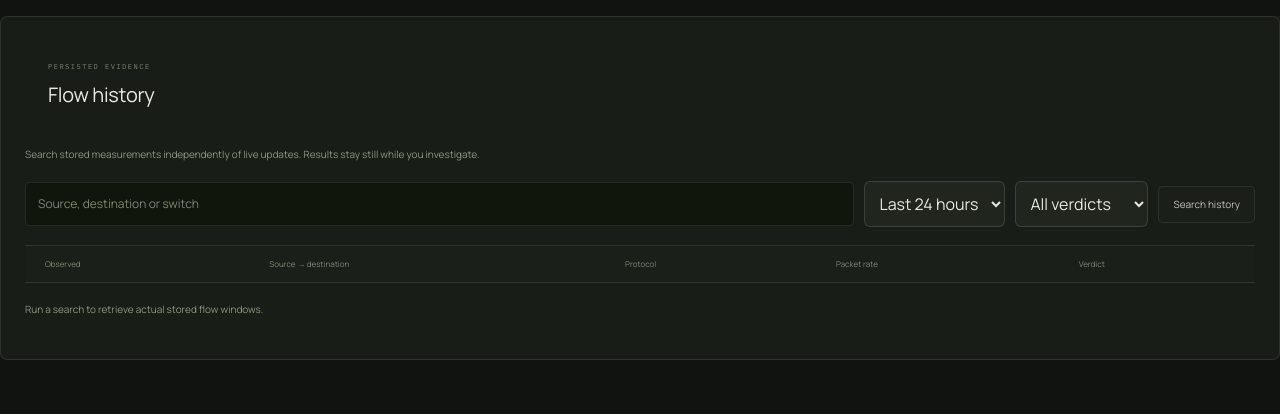
Test: workspace access › requires a fresh search after editing filters instead of reusing an old cursor
The image size is (1280, 414).
Click the button "Search history" at (1207, 204), box [1158,186,1255,222]
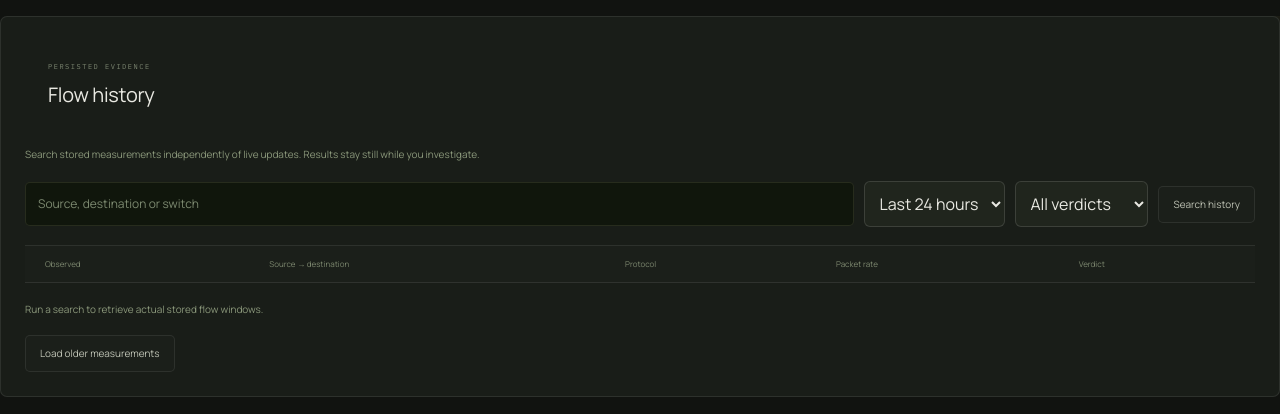
Expected: the button "Load older measurements" is shown, [25,335,175,372]
Type "another-network" into the field named "Search historical flows" at (440, 204), box [25,182,854,226]
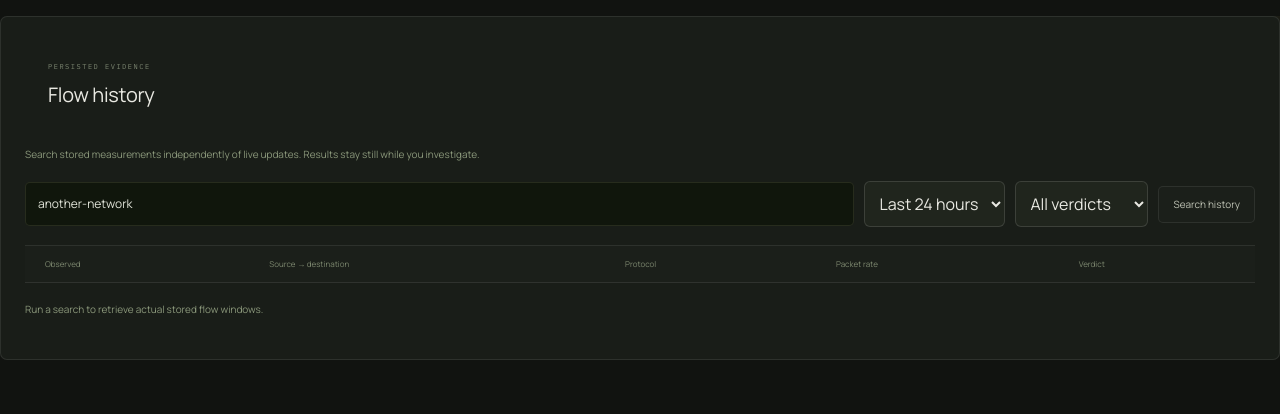
Expected: the button "Load older measurements" is gone
